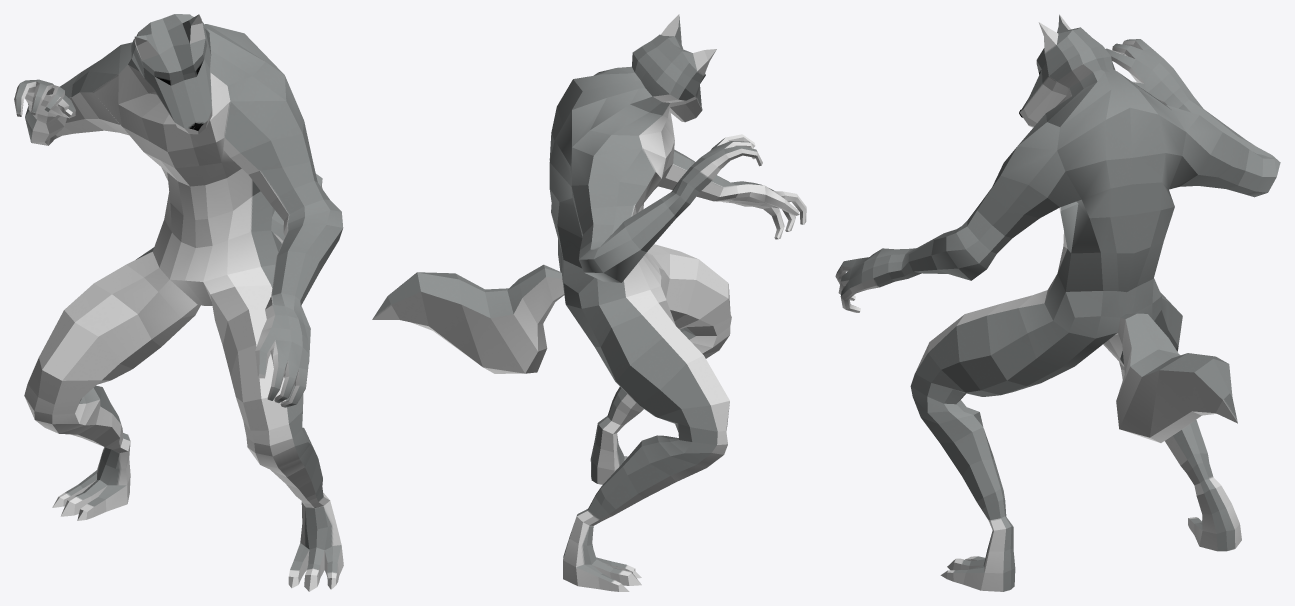
The model's file is WolfDead(2).obj.
3 views of the same model, side by side, from view 1: azimuth 30°, elevation 25°; view 2: azimuth 150°, elevation 25°; view 3: azimuth 270°, elevation 25° (orthographic). The views are drawn at different scales.
Visible parts, largest first — view 1: Box001; view 2: Box001; view 3: Box001.
Boxes of the visible parts, x1,y1,x2,y2 form: Box001: (14, 14, 343, 591); Box001: (372, 14, 806, 591); Box001: (835, 14, 1280, 591).
Size of the model in its own units: 92.99 by 133 by 104.
